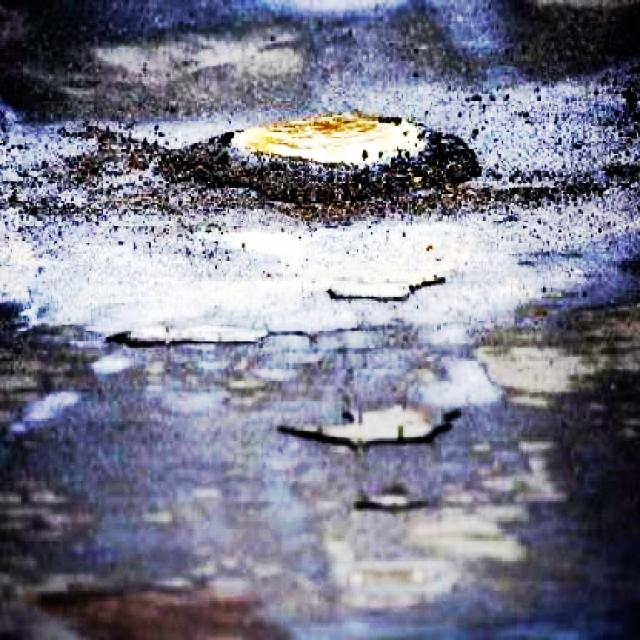pothole: (143, 108, 489, 203), (289, 396, 457, 450), (108, 320, 266, 357)
